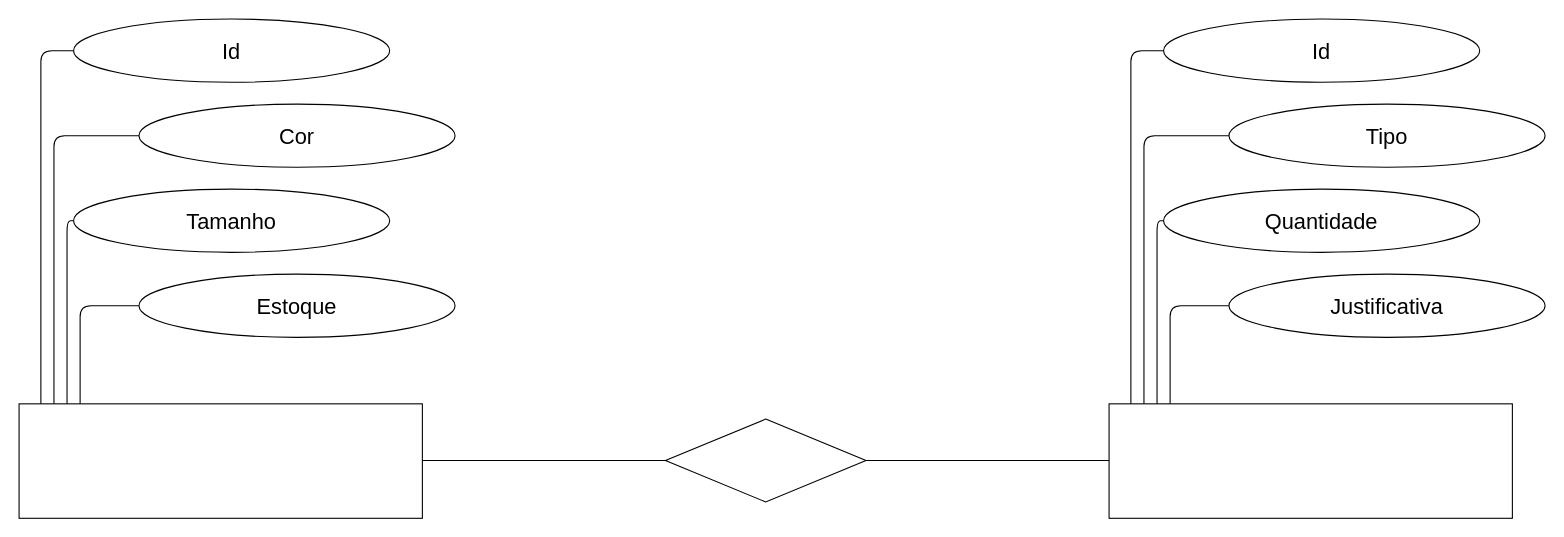
Some shapes in this 1564 by 537 pixel diagram are drawn without their labels. Each missing label, with the box of its shape:
MOVIMENTACOES: (1108, 403, 1512, 518)
POSSUI: (664, 418, 866, 502)
VARIACOES: (18, 403, 422, 518)
